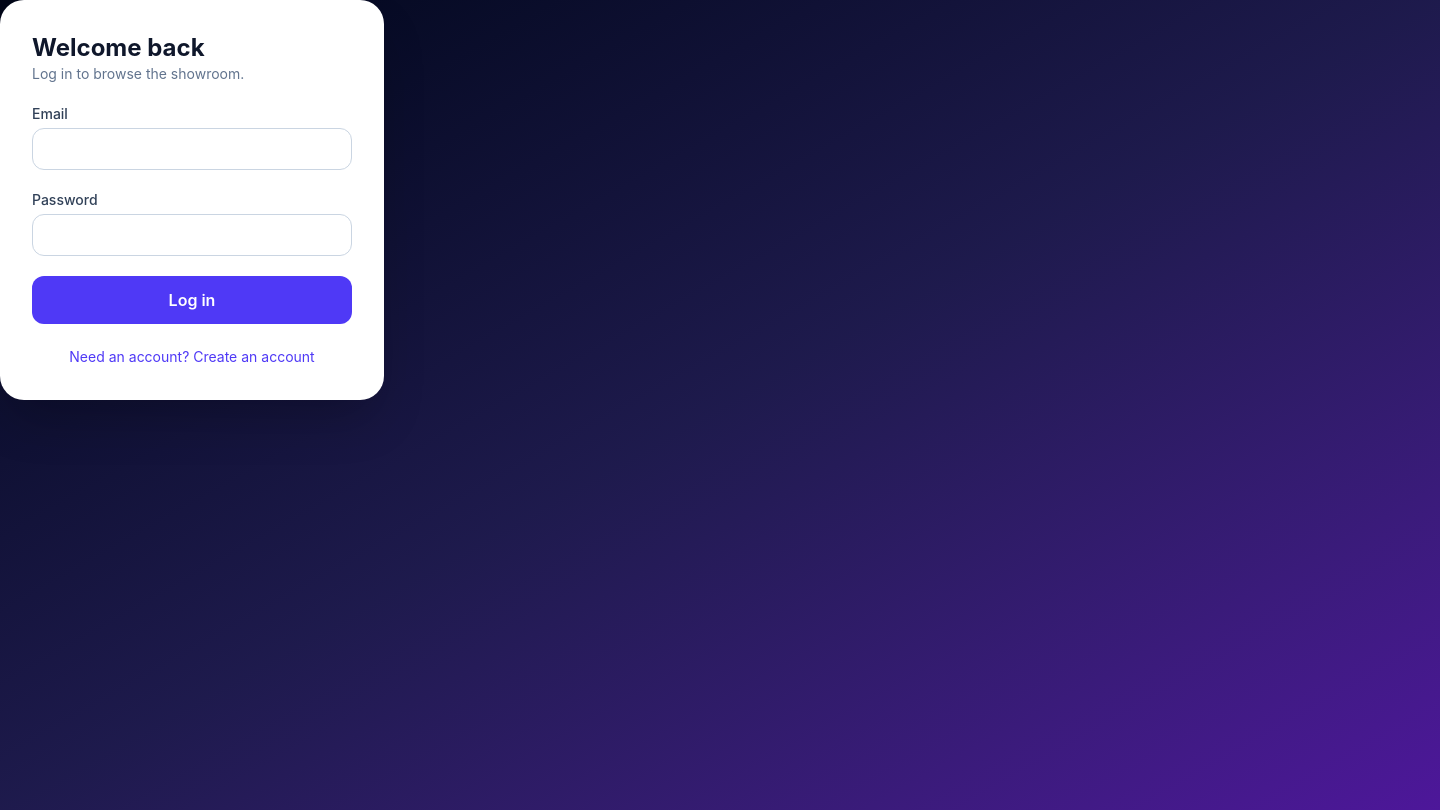
AuthForm › shows the error when submission fails
Type "a@x.com" into the field labelled "Email" at [192, 149], box [32,128,352,170]
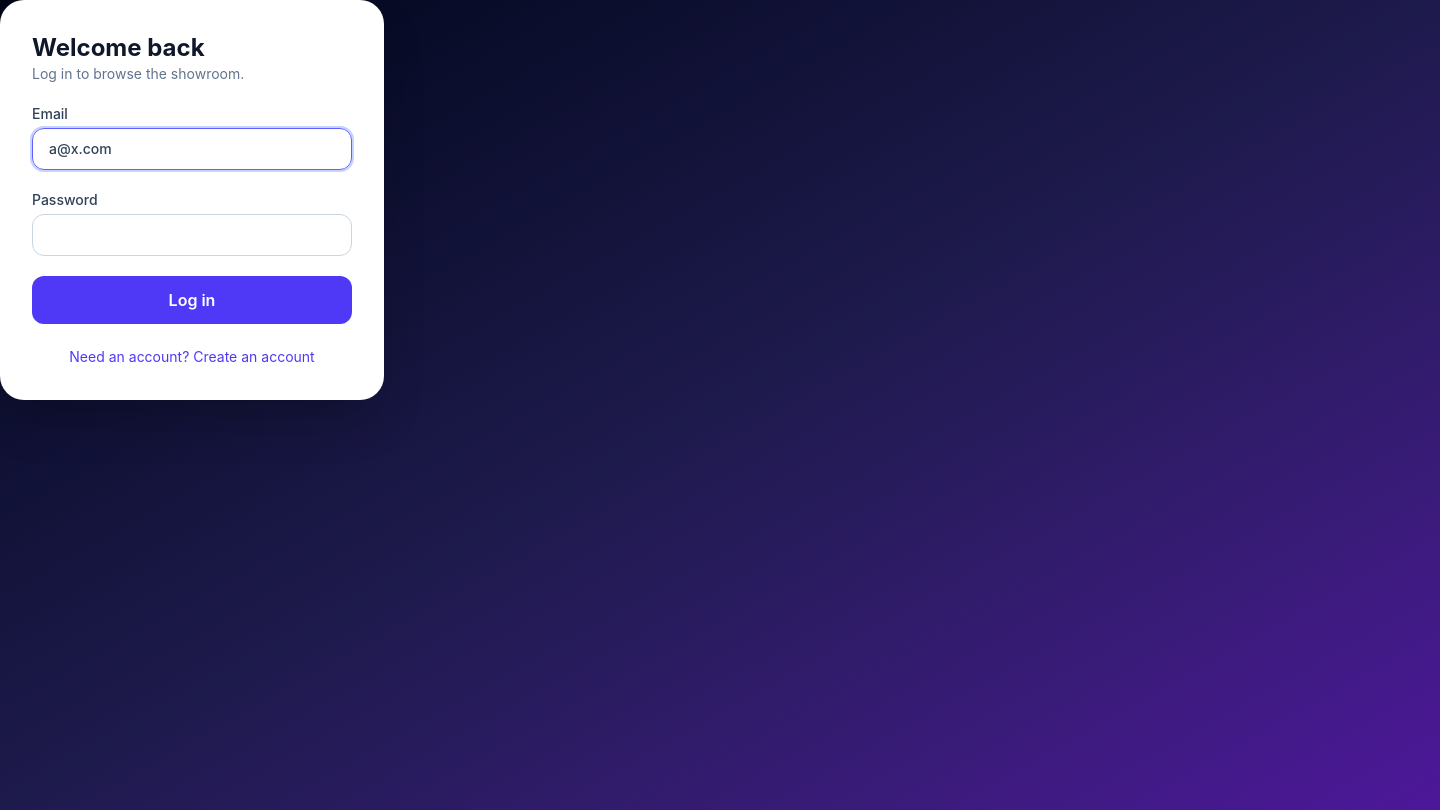
Type "password123" into the password field labelled "Password" at [192, 235], box [32,214,352,256]
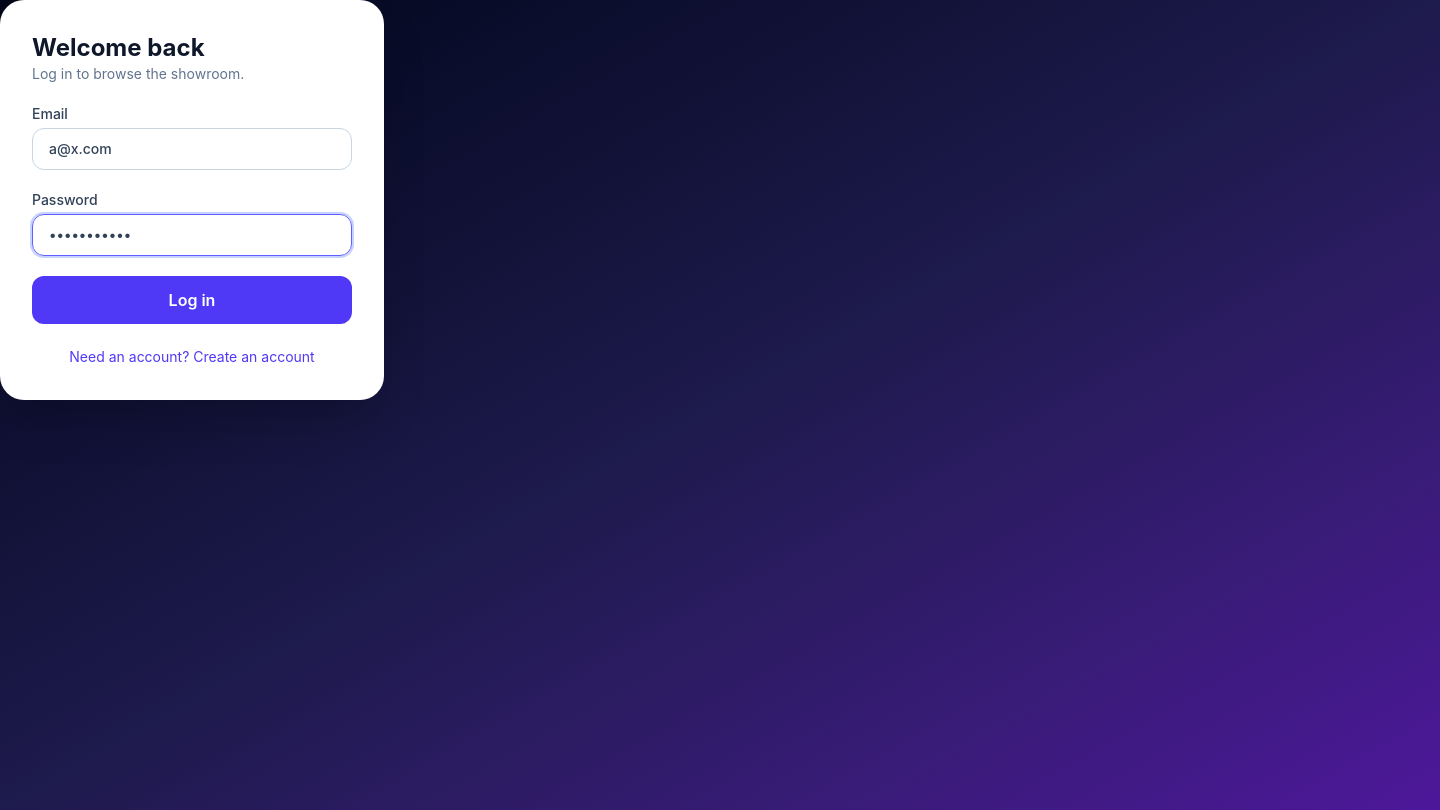
Click the button "Log in" at [192, 300], box [32,276,352,324]
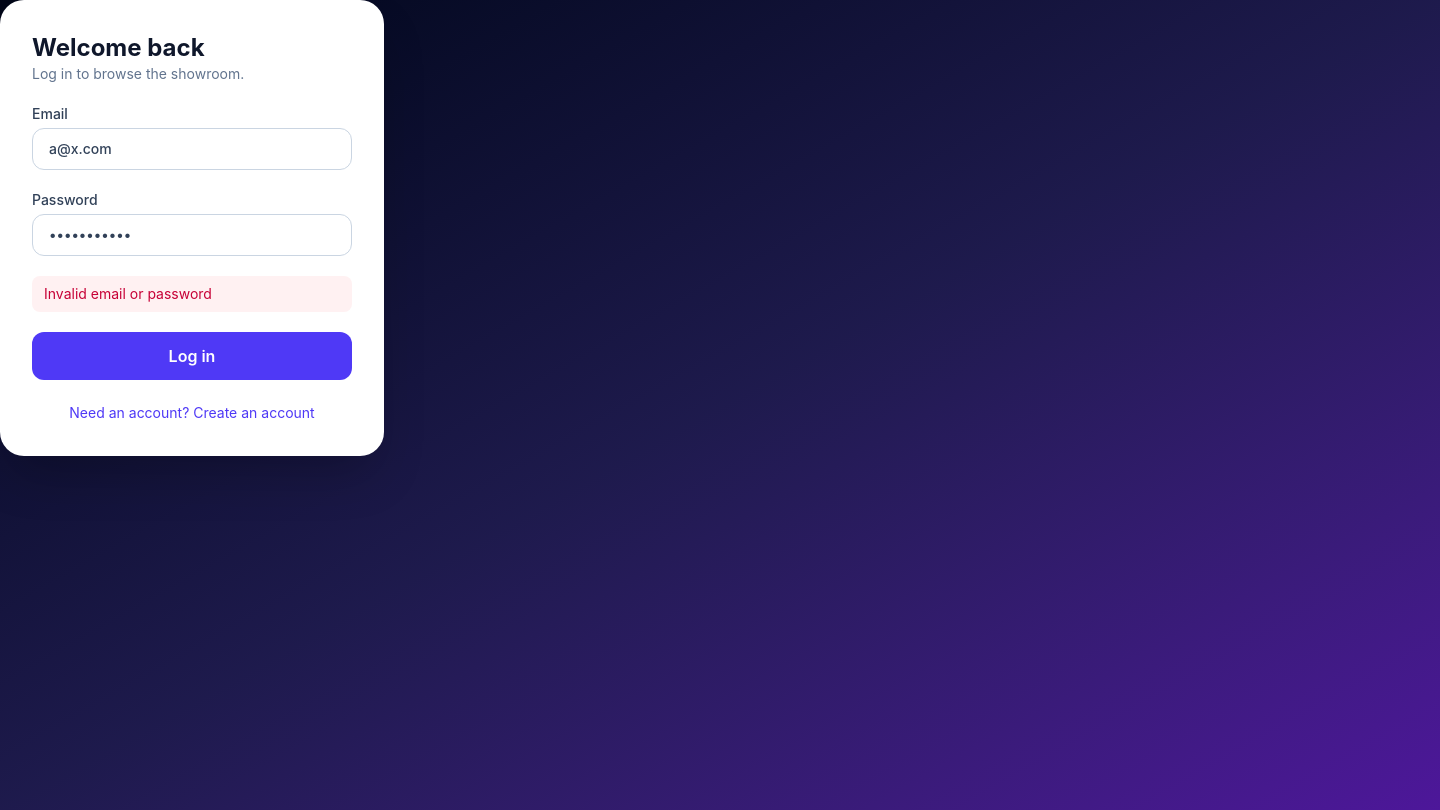
Check: the message reads "Invalid email or password", box [44,285,212,302]
